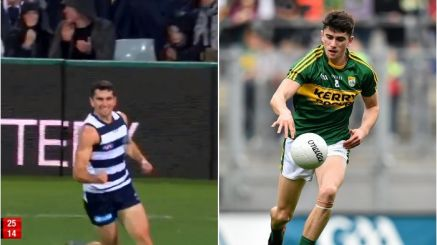ball: (286, 132, 328, 172)
player: (260, 12, 384, 228), (63, 76, 154, 236)
